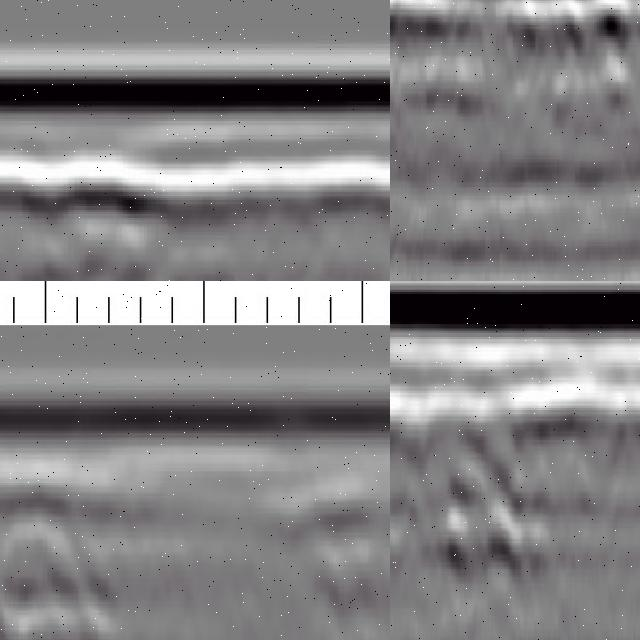crack: (1, 486, 25, 640)
loose: (391, 389, 553, 567), (391, 1, 640, 97), (8, 167, 178, 282), (1, 497, 117, 640)
